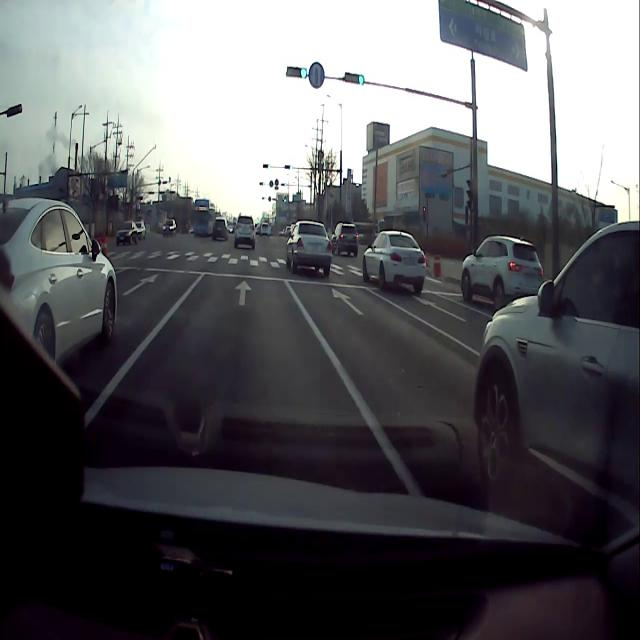Green Light: (299, 65, 308, 79), (358, 74, 364, 86)
